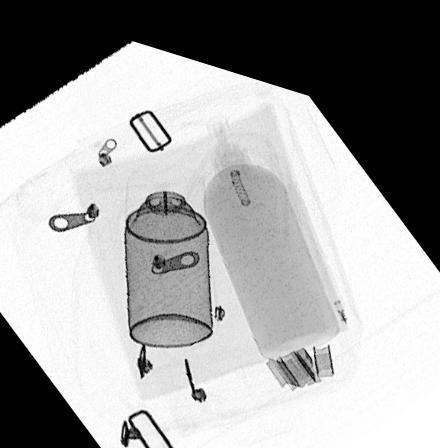Sprayer: (123, 154, 212, 337)
